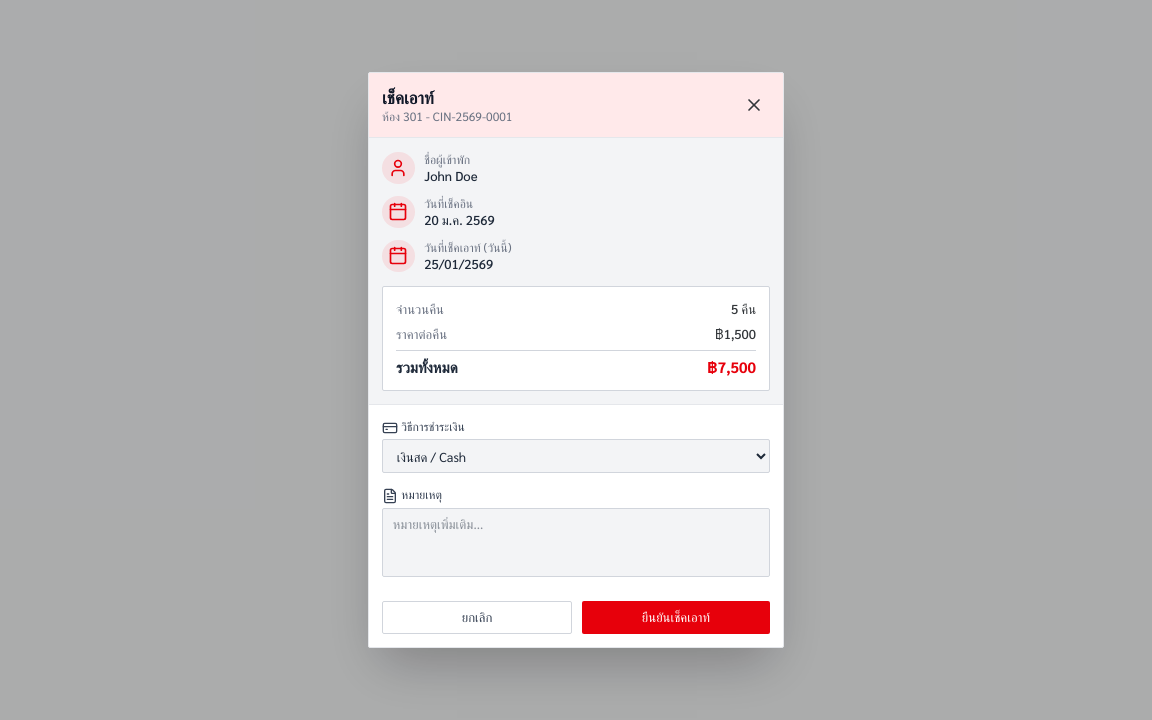
CheckOutModal Component › API Submission › shows loading state during submission
Click the button "ยืนยันเช็คเอาท์" at point(676, 617), box x1=582 y1=601 x2=770 y2=634
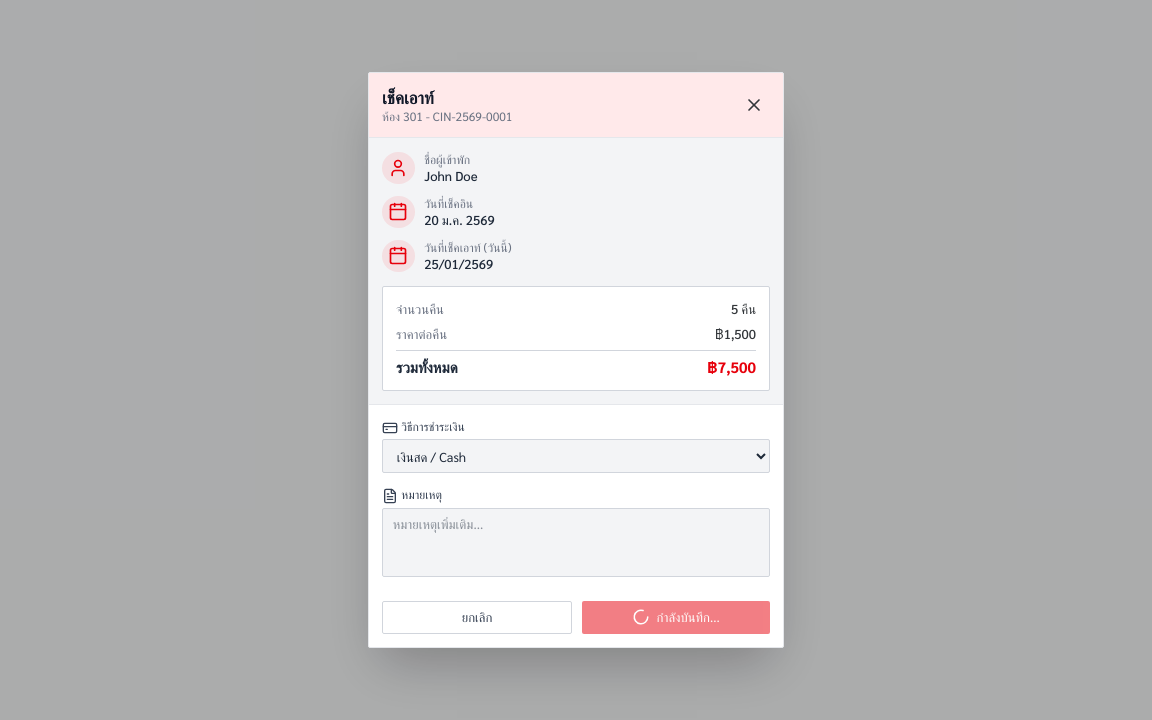
Now the button "กำลังบันทึก..." is shown, box x1=582 y1=601 x2=770 y2=634
